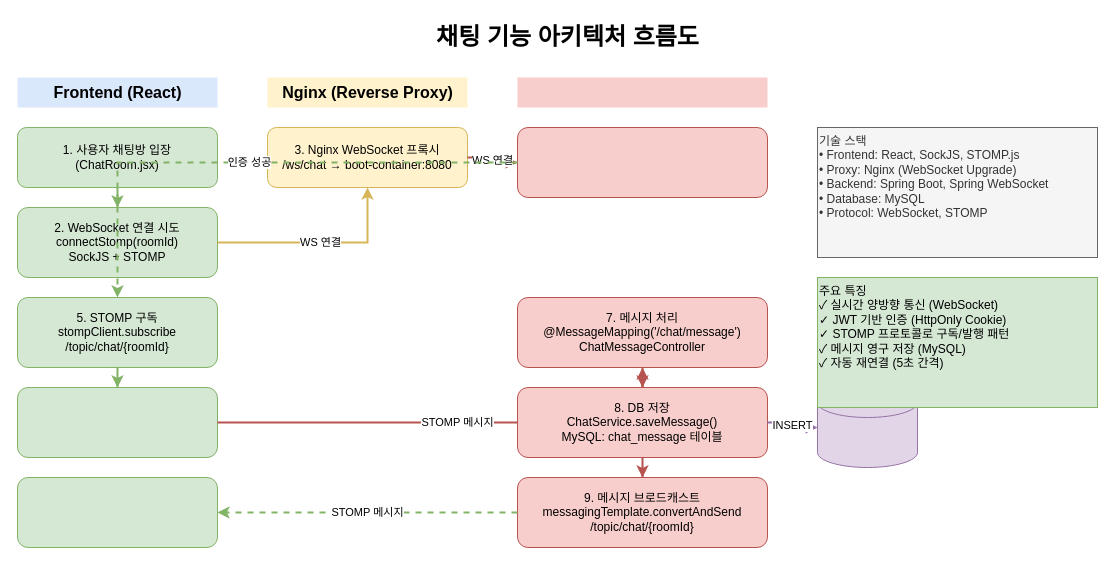
Some shapes in this 1115 by 565 pixel diagram are drawn without their labels. The shapes that lost their labels are listed below. From the top down, each one's centre as x and y in pixels, then its label:
At [642,92]: "Backend (Spring Boot)".
At [642,162]: "4. WebSocket 인증 WebSocketAuthInterceptor JWT 토큰 검증 (쿠키)".
At [117,422]: "6. 사용자 메시지 입력 stompClient.publish /app/chat/message".
At [867,427]: "MySQL Database".
At [117,512]: "10. 메시지 수신 onMessage 콜백 실행 화면에 메시지 표시".
